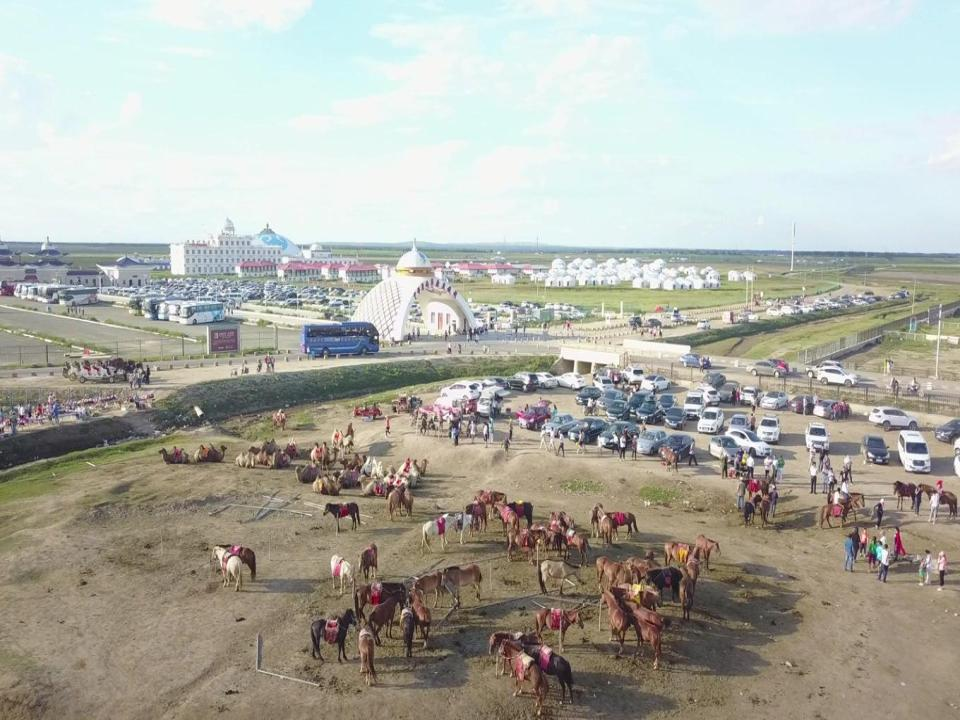bus: (299, 321, 379, 354), (180, 298, 224, 324), (158, 298, 196, 324), (168, 302, 210, 321), (59, 287, 100, 306), (0, 278, 42, 296), (41, 288, 87, 304), (128, 294, 160, 316), (146, 299, 180, 319), (16, 284, 57, 300), (36, 286, 74, 303), (12, 282, 52, 298), (141, 298, 174, 316), (20, 282, 52, 300), (27, 286, 63, 299)
car: (726, 426, 772, 458), (707, 436, 747, 467), (570, 416, 607, 445), (660, 431, 693, 463), (600, 421, 640, 447), (818, 364, 858, 390), (520, 403, 552, 433), (804, 423, 831, 454), (813, 398, 851, 420), (544, 412, 578, 436), (432, 398, 462, 425), (804, 360, 843, 380), (934, 417, 960, 446), (698, 406, 724, 435), (756, 413, 780, 444), (507, 369, 537, 393), (636, 430, 665, 454), (636, 400, 665, 424), (747, 362, 788, 378), (605, 399, 631, 424), (440, 382, 476, 400), (598, 389, 628, 410), (728, 412, 749, 441), (789, 394, 817, 415), (683, 390, 703, 419), (554, 371, 586, 389), (627, 391, 651, 415), (664, 406, 687, 431), (575, 383, 601, 404), (526, 373, 558, 390), (718, 380, 742, 402), (761, 390, 786, 410), (680, 353, 711, 369), (740, 382, 762, 404), (658, 393, 680, 415), (757, 358, 788, 373), (481, 376, 509, 392), (592, 376, 615, 391), (462, 380, 484, 394), (696, 318, 712, 331), (329, 313, 351, 322), (742, 311, 760, 321), (648, 316, 664, 327), (572, 309, 587, 320), (766, 308, 784, 317), (627, 316, 641, 327), (264, 298, 280, 307), (799, 301, 810, 314), (321, 311, 335, 321), (824, 302, 839, 311), (341, 304, 356, 313), (842, 297, 854, 308), (284, 299, 297, 309), (565, 311, 581, 319), (288, 299, 304, 307), (558, 311, 572, 320), (826, 300, 839, 309), (318, 297, 331, 306), (580, 311, 594, 319), (820, 300, 830, 311), (670, 312, 682, 321), (332, 297, 344, 306), (571, 304, 584, 312), (499, 299, 512, 307), (318, 287, 331, 295), (804, 303, 816, 311), (553, 302, 565, 310), (544, 301, 556, 309), (530, 302, 542, 310), (506, 306, 518, 314), (863, 296, 876, 303), (838, 300, 849, 308), (810, 303, 821, 311), (562, 304, 573, 312), (343, 290, 354, 298), (328, 286, 339, 294), (859, 298, 873, 304), (856, 299, 868, 306), (304, 296, 314, 304), (335, 287, 348, 293), (790, 305, 798, 314), (477, 303, 487, 310), (852, 301, 860, 309), (342, 299, 351, 306), (302, 287, 311, 294), (830, 297, 840, 303), (522, 301, 532, 307), (794, 305, 802, 312), (315, 292, 325, 297), (335, 291, 345, 296), (329, 291, 339, 296), (862, 290, 874, 294), (313, 285, 322, 290), (852, 292, 856, 299)
van: (898, 430, 932, 474), (869, 406, 919, 430), (859, 435, 889, 466), (477, 387, 504, 417), (325, 300, 342, 312), (738, 311, 749, 323), (781, 306, 793, 314), (496, 304, 508, 312)
